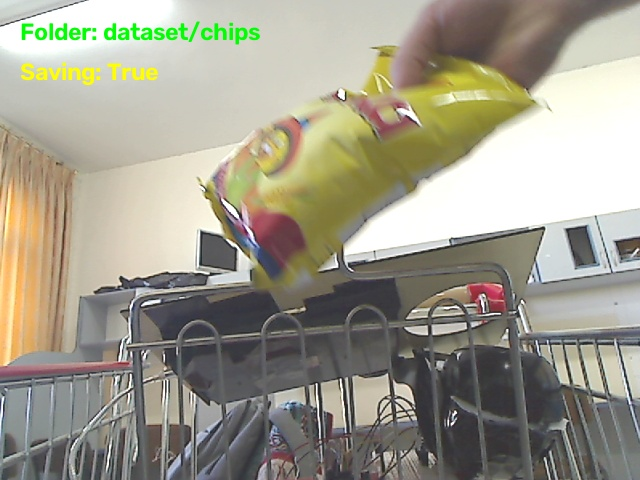chips: (202, 47, 534, 288)
